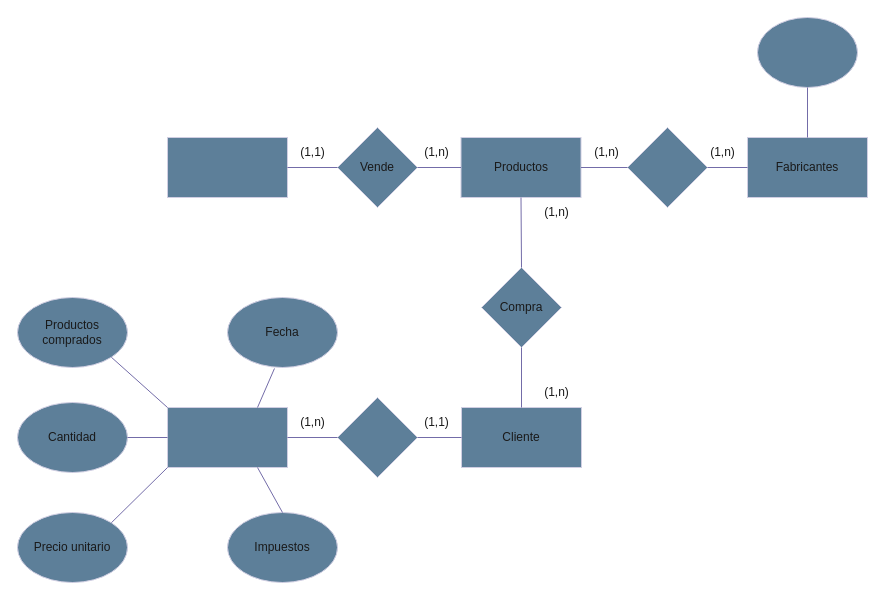
This 885x600 diagram has some shape labels left out. The shapes that lost their labels are listed below. From the top down, each one's box as (x1, y1, x2, y2) in pixels, then its label:
(756, 16, 858, 88): Precio
(166, 136, 288, 198): Ferretería
(626, 126, 708, 208): Crean
(166, 406, 288, 468): factura
(336, 396, 418, 478): Generan
